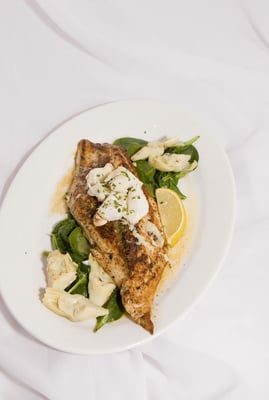curry: (0, 1, 268, 395)
